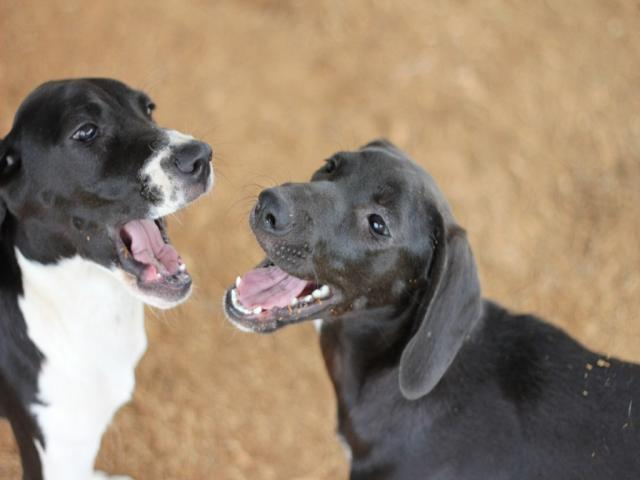Dog: (228, 133, 640, 479), (0, 75, 228, 479)
